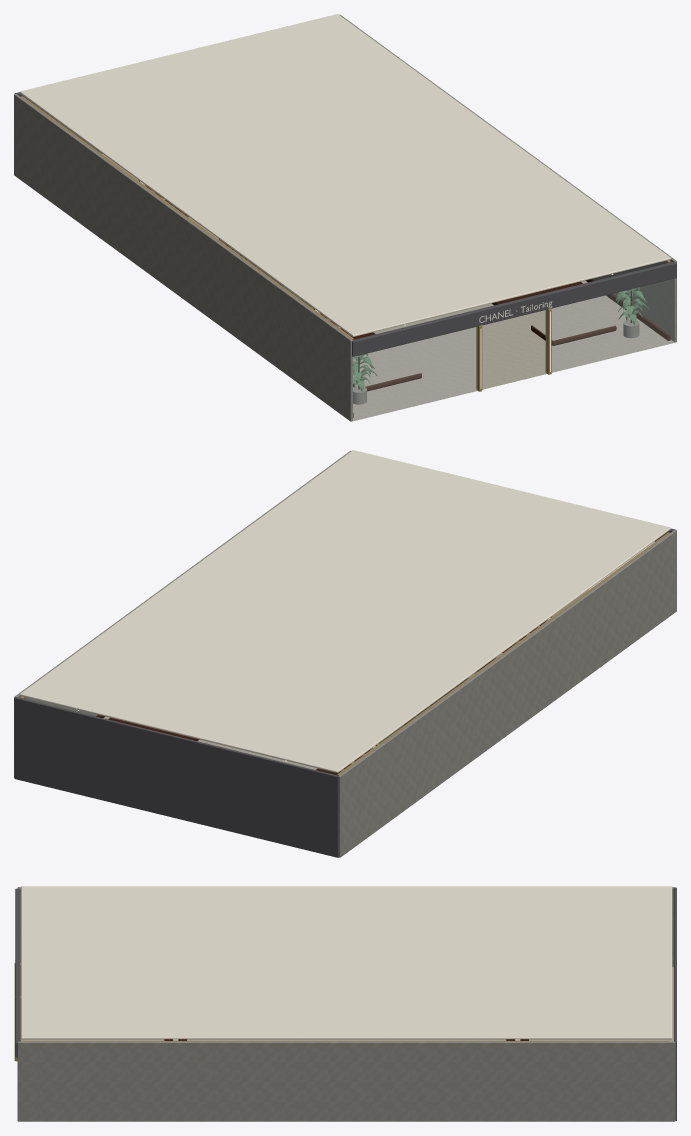
The model's file is chanel-tailoring.glb.
3 views of the same model, one above another, from view 1: azimuth 30°, elevation 25°; view 2: azimuth 150°, elevation 25°; view 3: azimuth 270°, elevation 25° (orthographic). The views are drawn at different scales.
Parts seen in each view (by area): view 1: Acoustic ceiling field, Batched AUR-L2-CHANEL-TAILORING::Travertine, Batched AUR-L2-CHANEL-TAILORING::Cream marble, Batched AUR-L2-CHANEL-TAILORING::Tenant glass, Batched AUR-L2-CHANEL-TAILORING::Tenant chanel-tailoring, Batched AUR-L2-CHANEL-TAILORING::Bronze, Batched AUR-L2-CHANEL-TAILORING::Walnut, Batched AUR-L2-CHANEL-TAILORING::Foliage; view 2: Acoustic ceiling field, Batched AUR-L2-CHANEL-TAILORING::Travertine, Batched AUR-L2-CHANEL-TAILORING::Tenant chanel-tailoring, Batched AUR-L2-CHANEL-TAILORING::Bronze; view 3: Acoustic ceiling field, Batched AUR-L2-CHANEL-TAILORING::Travertine, Batched AUR-L2-CHANEL-TAILORING::Tenant chanel-tailoring, Batched AUR-L2-CHANEL-TAILORING::Cream marble, Batched AUR-L2-CHANEL-TAILORING::Bronze.
Boxes of the visible parts, bbox=[...] form: Acoustic ceiling field: bbox=[19, 14, 671, 336]; Batched AUR-L2-CHANEL-TAILORING::Travertine: bbox=[14, 14, 676, 421]; Batched AUR-L2-CHANEL-TAILORING::Cream marble: bbox=[102, 154, 675, 421]; Batched AUR-L2-CHANEL-TAILORING::Tenant glass: bbox=[352, 279, 675, 421]; Batched AUR-L2-CHANEL-TAILORING::Tenant chanel-tailoring: bbox=[14, 92, 676, 356]; Batched AUR-L2-CHANEL-TAILORING::Bronze: bbox=[21, 96, 670, 391]; Batched AUR-L2-CHANEL-TAILORING::Walnut: bbox=[138, 180, 670, 417]; Batched AUR-L2-CHANEL-TAILORING::Foliage: bbox=[353, 287, 649, 391]; Acoustic ceiling field: bbox=[19, 450, 671, 772]; Batched AUR-L2-CHANEL-TAILORING::Travertine: bbox=[14, 450, 676, 857]; Batched AUR-L2-CHANEL-TAILORING::Tenant chanel-tailoring: bbox=[14, 528, 676, 857]; Batched AUR-L2-CHANEL-TAILORING::Bronze: bbox=[20, 532, 669, 775]; Acoustic ceiling field: bbox=[21, 886, 672, 1039]; Batched AUR-L2-CHANEL-TAILORING::Travertine: bbox=[17, 887, 675, 1121]; Batched AUR-L2-CHANEL-TAILORING::Tenant chanel-tailoring: bbox=[15, 887, 676, 1120]; Batched AUR-L2-CHANEL-TAILORING::Cream marble: bbox=[21, 967, 673, 1041]; Batched AUR-L2-CHANEL-TAILORING::Bronze: bbox=[14, 963, 669, 1061].
Bounding box in the file's own units: 20.16 × 4.97 × 36.29.
17 materials, 4 textured.
